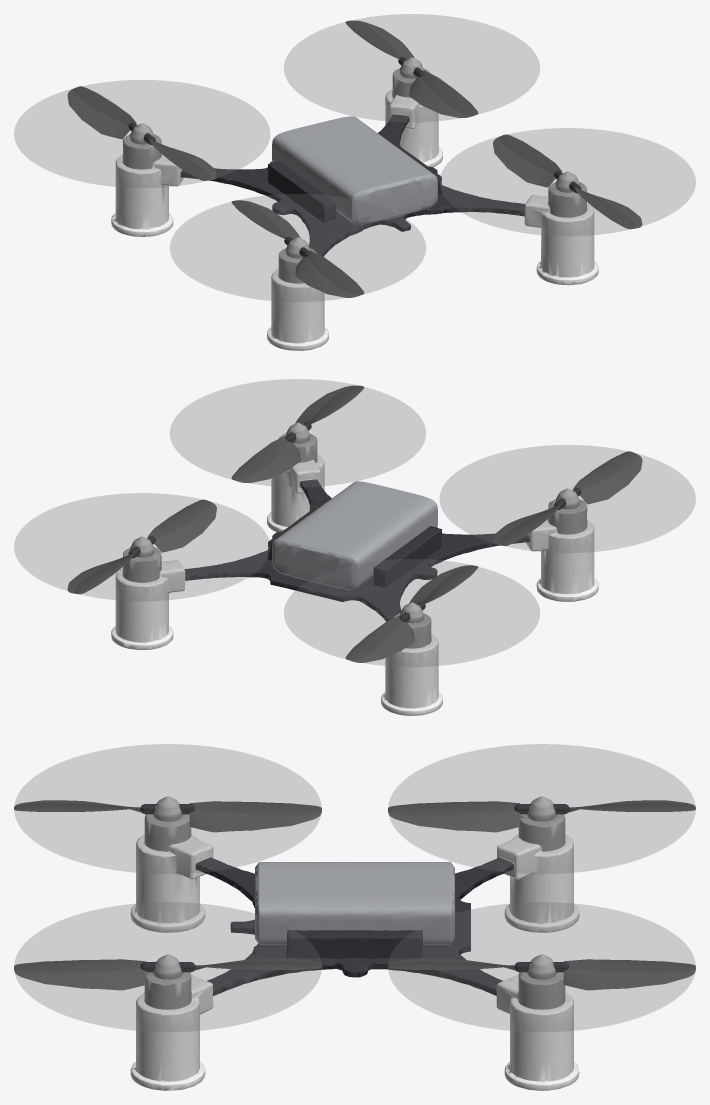
The picture shows the model from 3 angles, top to bottom: view 1: azimuth 30°, elevation 25°; view 2: azimuth 150°, elevation 25°; view 3: azimuth 270°, elevation 25°; orthographic projection. The views are drawn at different scales.
Visible parts, largest first — view 1: airframe, fsim:disc:0:600, fsim:disc:1:600, fsim:disc:3:600, fsim:disc:2:600, fsim:blades:3:600, fsim:blades:1:600, fsim:blades:2:600, fsim:blades:0:600; view 2: airframe, fsim:disc:1:600, fsim:disc:0:600, fsim:disc:2:600, fsim:disc:3:600, fsim:blades:2:600, fsim:blades:0:600, fsim:blades:3:600, fsim:blades:1:600; view 3: airframe, fsim:disc:2:600, fsim:disc:3:600, fsim:disc:0:600, fsim:disc:1:600, fsim:blades:2:600, fsim:blades:3:600, fsim:blades:0:600, fsim:blades:1:600, fsim:propeller:2, fsim:propeller:3, fsim:propeller:0 (+1 smaller).
Part boxes in pixels (x1,y1,x2,y2): airframe: (111,68,598,350); fsim:disc:0:600: (170,194,425,301); fsim:disc:1:600: (14,80,269,187); fsim:disc:3:600: (440,128,695,235); fsim:disc:2:600: (284,14,539,121); fsim:blades:3:600: (493,134,642,229); fsim:blades:1:600: (67,86,216,180); fsim:blades:2:600: (345,20,478,117); fsim:blades:0:600: (231,200,364,297); airframe: (111,433,598,715); fsim:disc:1:600: (284,559,539,666); fsim:disc:0:600: (440,445,695,552); fsim:disc:2:600: (14,493,269,600); fsim:disc:3:600: (170,379,425,486); fsim:blades:2:600: (67,499,216,594); fsim:blades:0:600: (493,451,642,545); fsim:blades:3:600: (231,385,364,482); fsim:blades:1:600: (345,565,478,662); airframe: (130,814,579,1090); fsim:disc:2:600: (388,902,695,1031); fsim:disc:3:600: (14,902,321,1031); fsim:disc:0:600: (14,744,321,873); fsim:disc:1:600: (388,744,695,873); fsim:blades:2:600: (388,958,695,990); fsim:blades:3:600: (14,958,321,990); fsim:blades:0:600: (14,800,321,832); fsim:blades:1:600: (388,800,695,832); fsim:propeller:2: (514,954,569,979); fsim:propeller:3: (140,954,195,979); fsim:propeller:0: (140,796,195,821).
Bounding box in the file's own units: 0.1025 × 0.0202 × 0.1025.
Materials: 16 (1 with a texture image).
